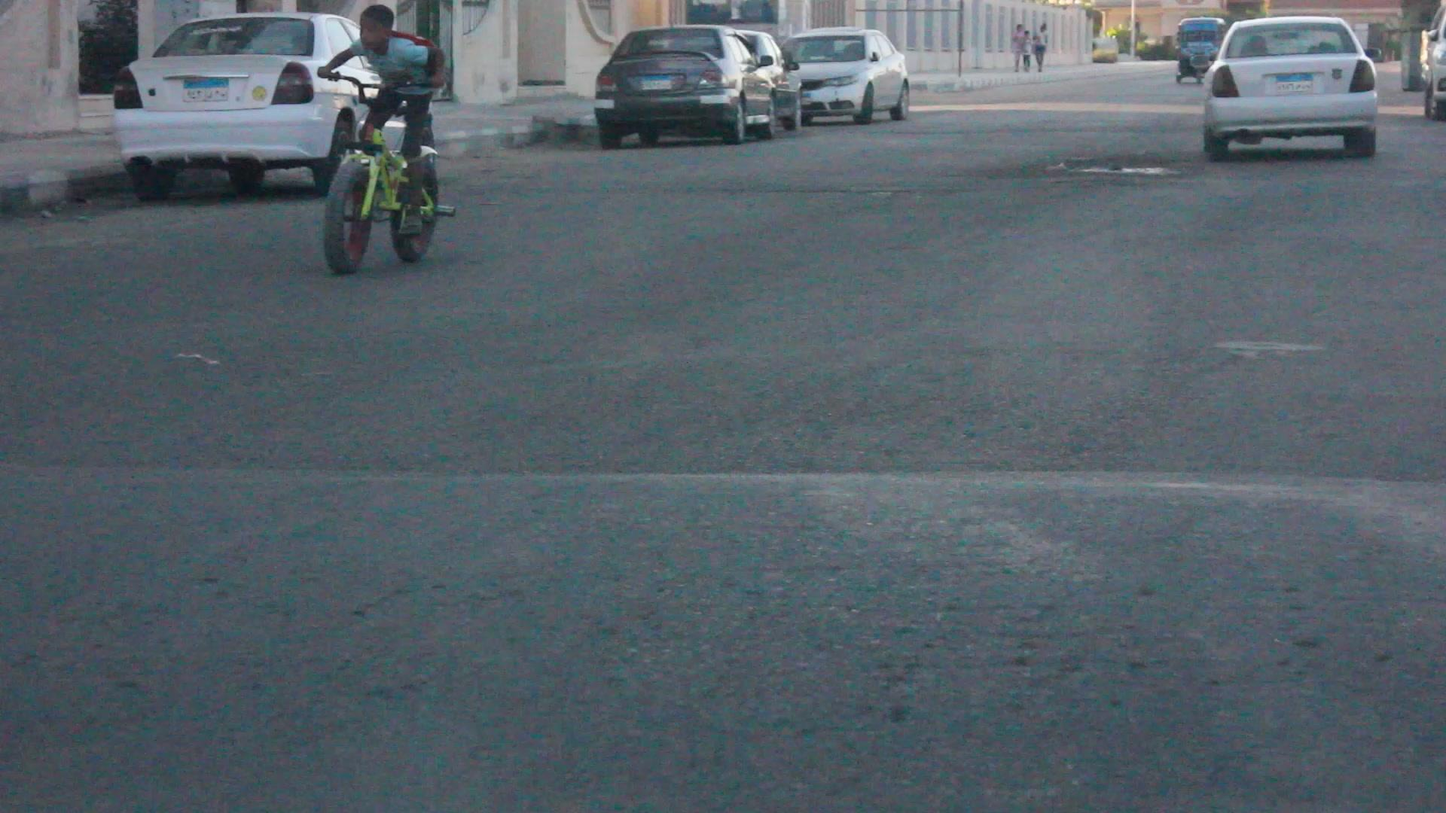Bump: (6, 461, 1445, 809)
